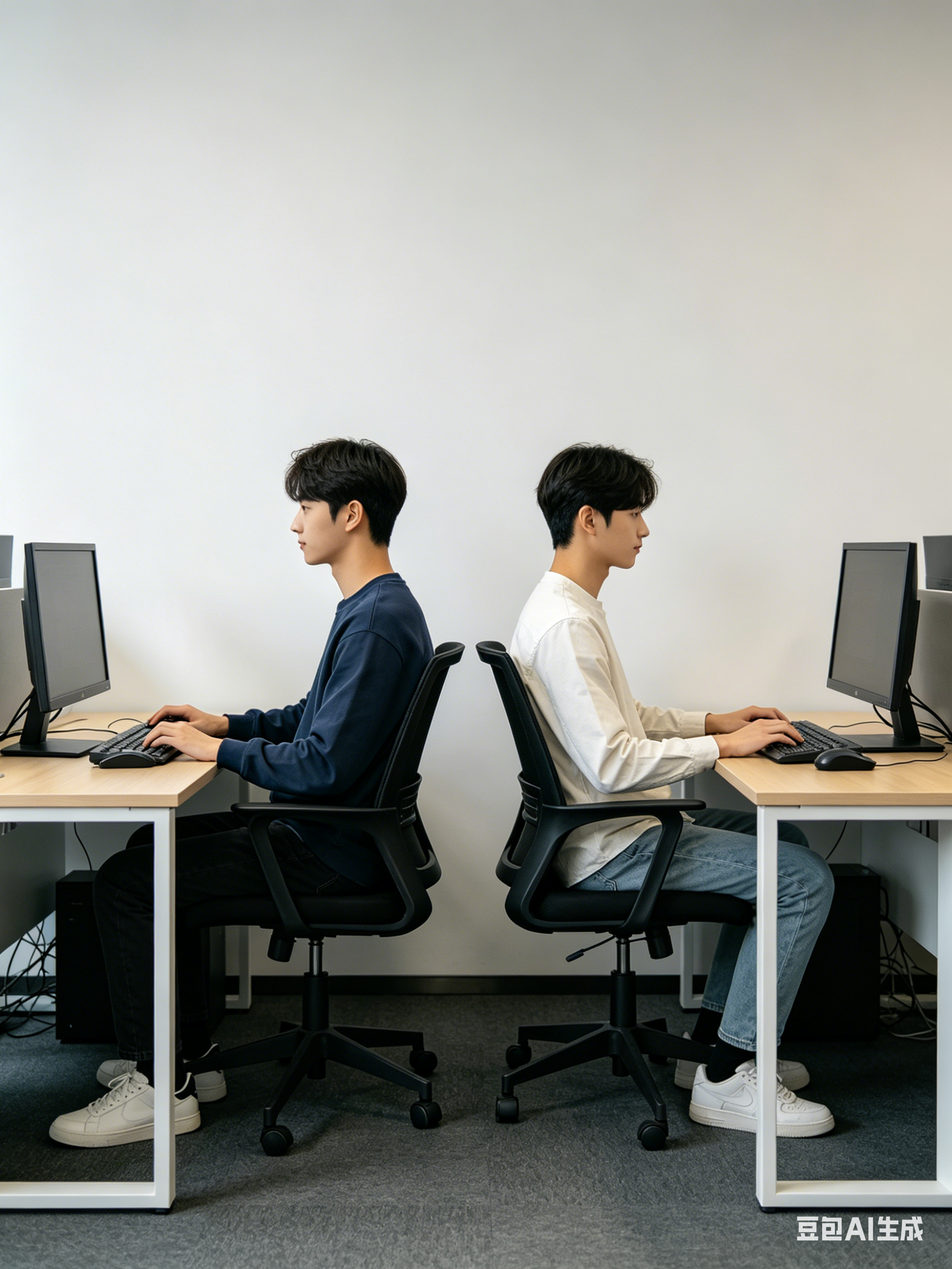sitting_good: (150, 438, 507, 1113), (499, 435, 829, 1135)
